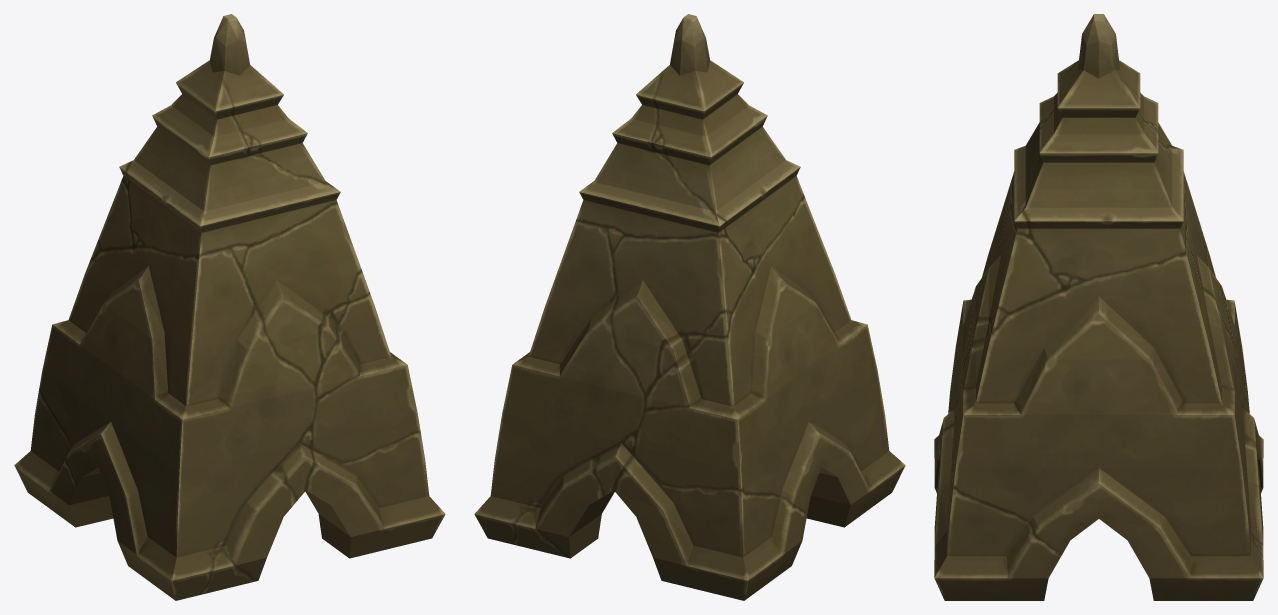
File: temple_02.fbx
3 views of the same model, side by side, from view 1: azimuth 30°, elevation 25°; view 2: azimuth 150°, elevation 25°; view 3: azimuth 270°, elevation 25° (orthographic). The views are drawn at different scales.
Parts seen in each view (by area): view 1: obj0.054; view 2: obj0.054; view 3: obj0.054.
Boxes of the visible parts, x1,y1,x2,y2 form: obj0.054: (14,14,445,600); obj0.054: (474,14,905,600); obj0.054: (934,14,1263,600).
Bounding box in the file's own units: 4.24 × 7.39 × 4.24.
